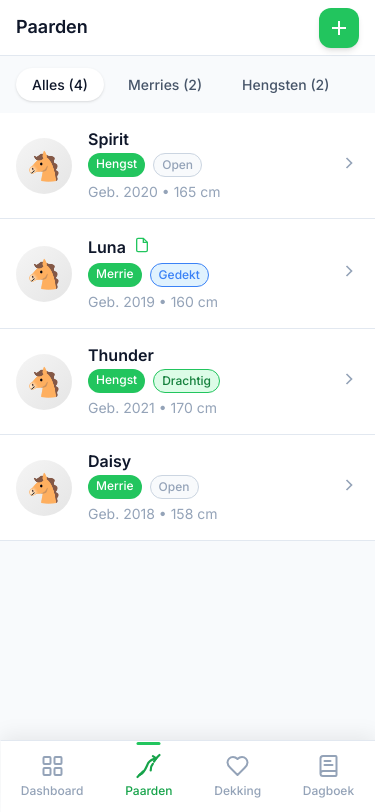
Test: Horses Overview Page › Filtering › should filter to show only mares when clicking Merries
Click the button "Merries (2)": (165, 85) [112, 68, 218, 101]
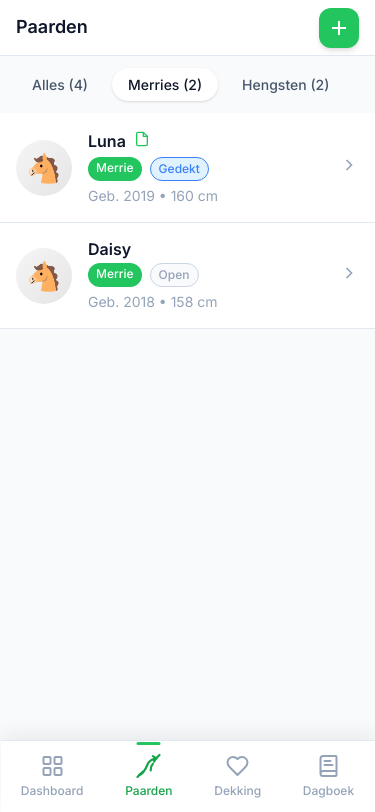
Expected: the link "🐴 Luna Merrie Gedekt Geb. 2019 • 160 cm" is shown, [0, 113, 374, 223]
Expected: the link "Spirit" is gone
